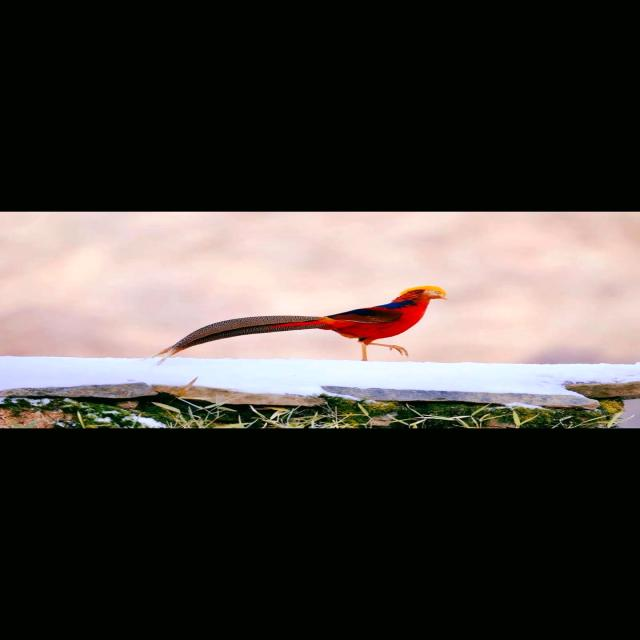Chrysolophus pictus feather: (146, 316, 326, 364)
